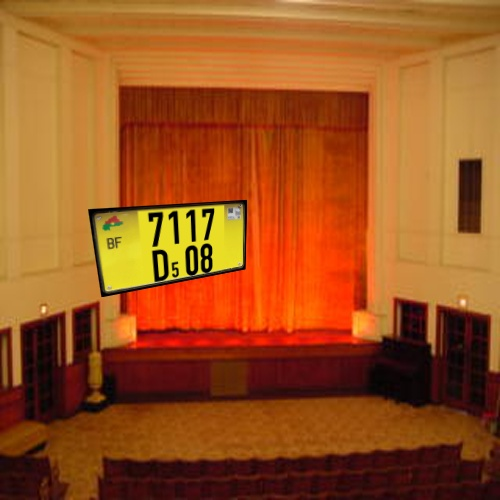plate: (71, 191, 263, 305)
